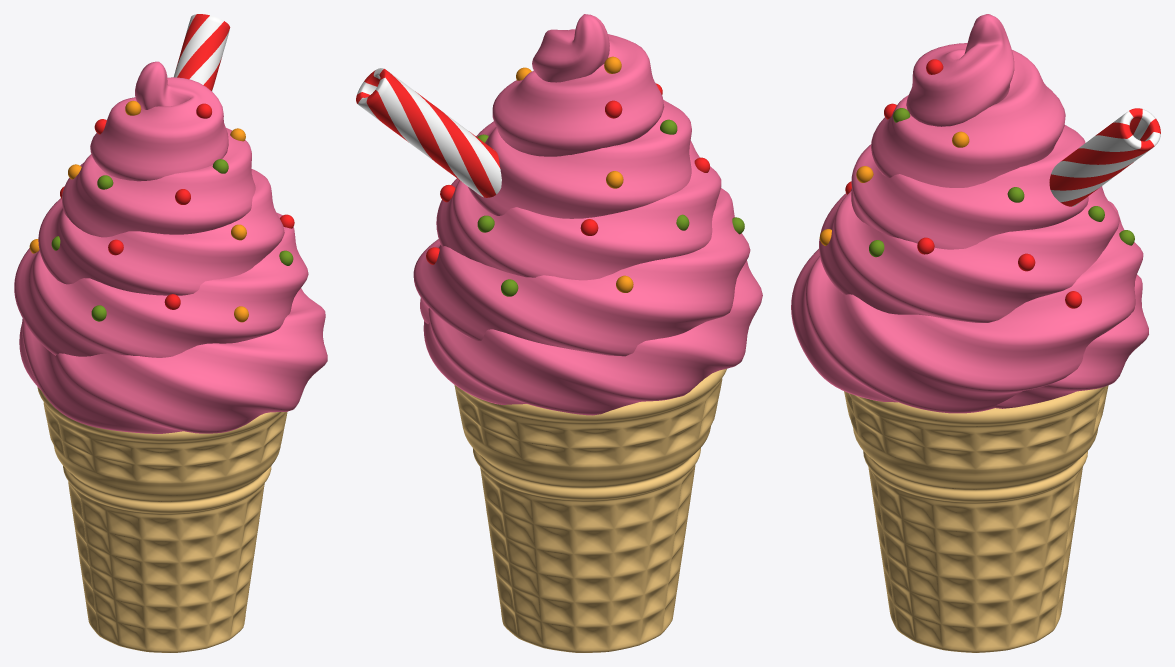
File: icecream.glb
3 renders of one model, left to right at view 1: azimuth 30°, elevation 25°; view 2: azimuth 150°, elevation 25°; view 3: azimuth 270°, elevation 25°, orthographic. The views are drawn at different scales.
Visible parts, largest first — view 1: Circle, Cylinder, Cylinder.002; view 2: Circle, Cylinder, Cylinder.002; view 3: Circle, Cylinder, Cylinder.002.
Part boxes in pixels (x1,y1,x2,y2): Circle: [14, 61, 327, 433]; Cylinder: [37, 387, 287, 652]; Cylinder.002: [174, 14, 230, 91]; Circle: [413, 14, 762, 415]; Cylinder: [454, 368, 726, 652]; Cylinder.002: [356, 68, 501, 197]; Circle: [791, 14, 1148, 413]; Cylinder: [844, 385, 1108, 652]; Cylinder.002: [1049, 108, 1160, 206].
Bounding box in the file's own units: 0.3938 × 0.7881 × 0.44.
